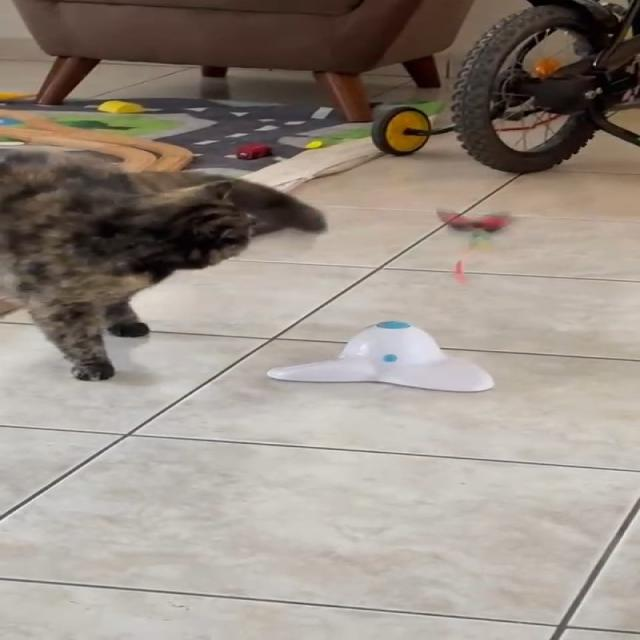authorized: (0, 149, 327, 381)
